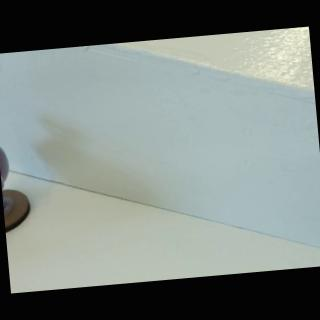teletubby: (0, 147, 8, 198)
